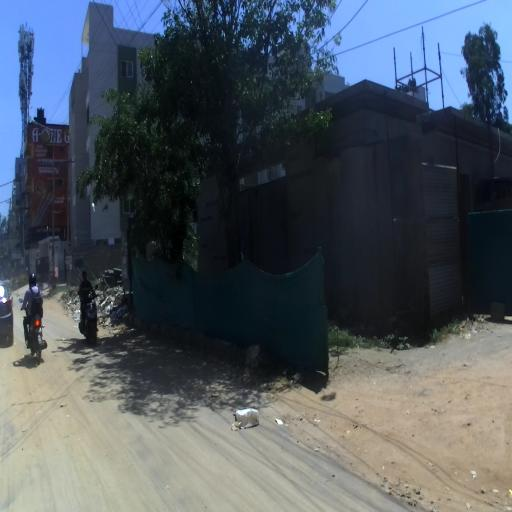street_light_0: (31, 119, 54, 134)
